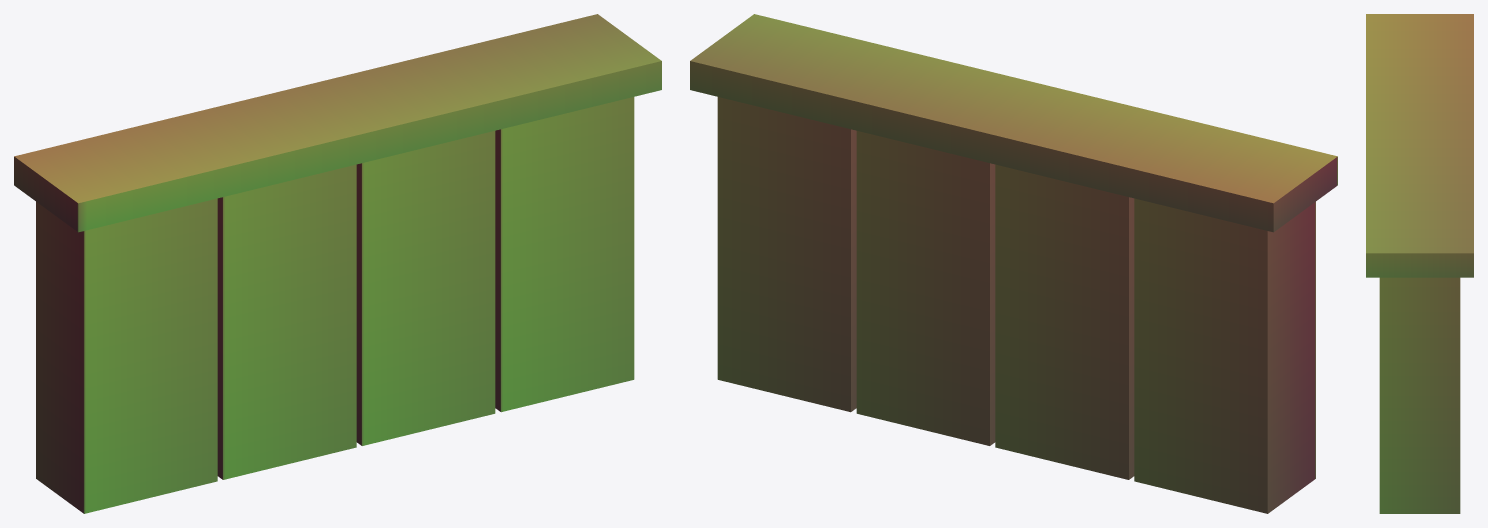
Rendered from lf_world_wall.gltf.
3 renders of one model, left to right at view 1: azimuth 30°, elevation 25°; view 2: azimuth 150°, elevation 25°; view 3: azimuth 270°, elevation 25°, orthographic. The views are drawn at different scales.
Visible parts, largest first — view 1: lf_world_wall_coping, lf_world_wall_block0, lf_world_wall_block1, lf_world_wall_block3, lf_world_wall_block2; view 2: lf_world_wall_coping, lf_world_wall_block0, lf_world_wall_block1, lf_world_wall_block3, lf_world_wall_block2; view 3: lf_world_wall_coping, lf_world_wall_block3.
Boxes of the visible parts, box(x1,y1,x2,y2) form: lf_world_wall_coping: box(14, 14, 661, 232); lf_world_wall_block0: box(36, 198, 217, 513); lf_world_wall_block1: box(217, 164, 356, 479); lf_world_wall_block3: box(495, 97, 634, 412); lf_world_wall_block2: box(356, 131, 495, 445); lf_world_wall_coping: box(690, 14, 1337, 232); lf_world_wall_block0: box(1134, 198, 1315, 513); lf_world_wall_block1: box(995, 164, 1134, 479); lf_world_wall_block3: box(717, 97, 856, 412); lf_world_wall_block2: box(856, 131, 995, 445); lf_world_wall_coping: box(1366, 14, 1473, 277); lf_world_wall_block3: box(1379, 277, 1460, 513).
Size of what is drawn, in the model's own units: 2.1 by 1.1 by 0.4.
1 material, 1 textured.
